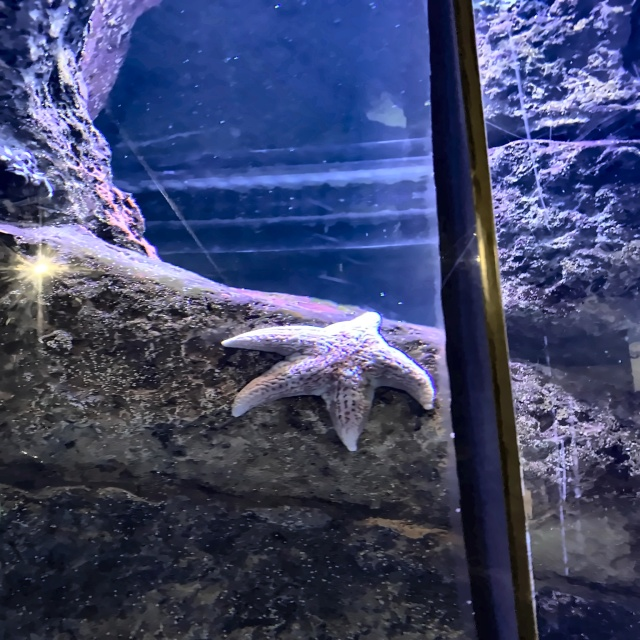starfish: (222, 313, 433, 452)
